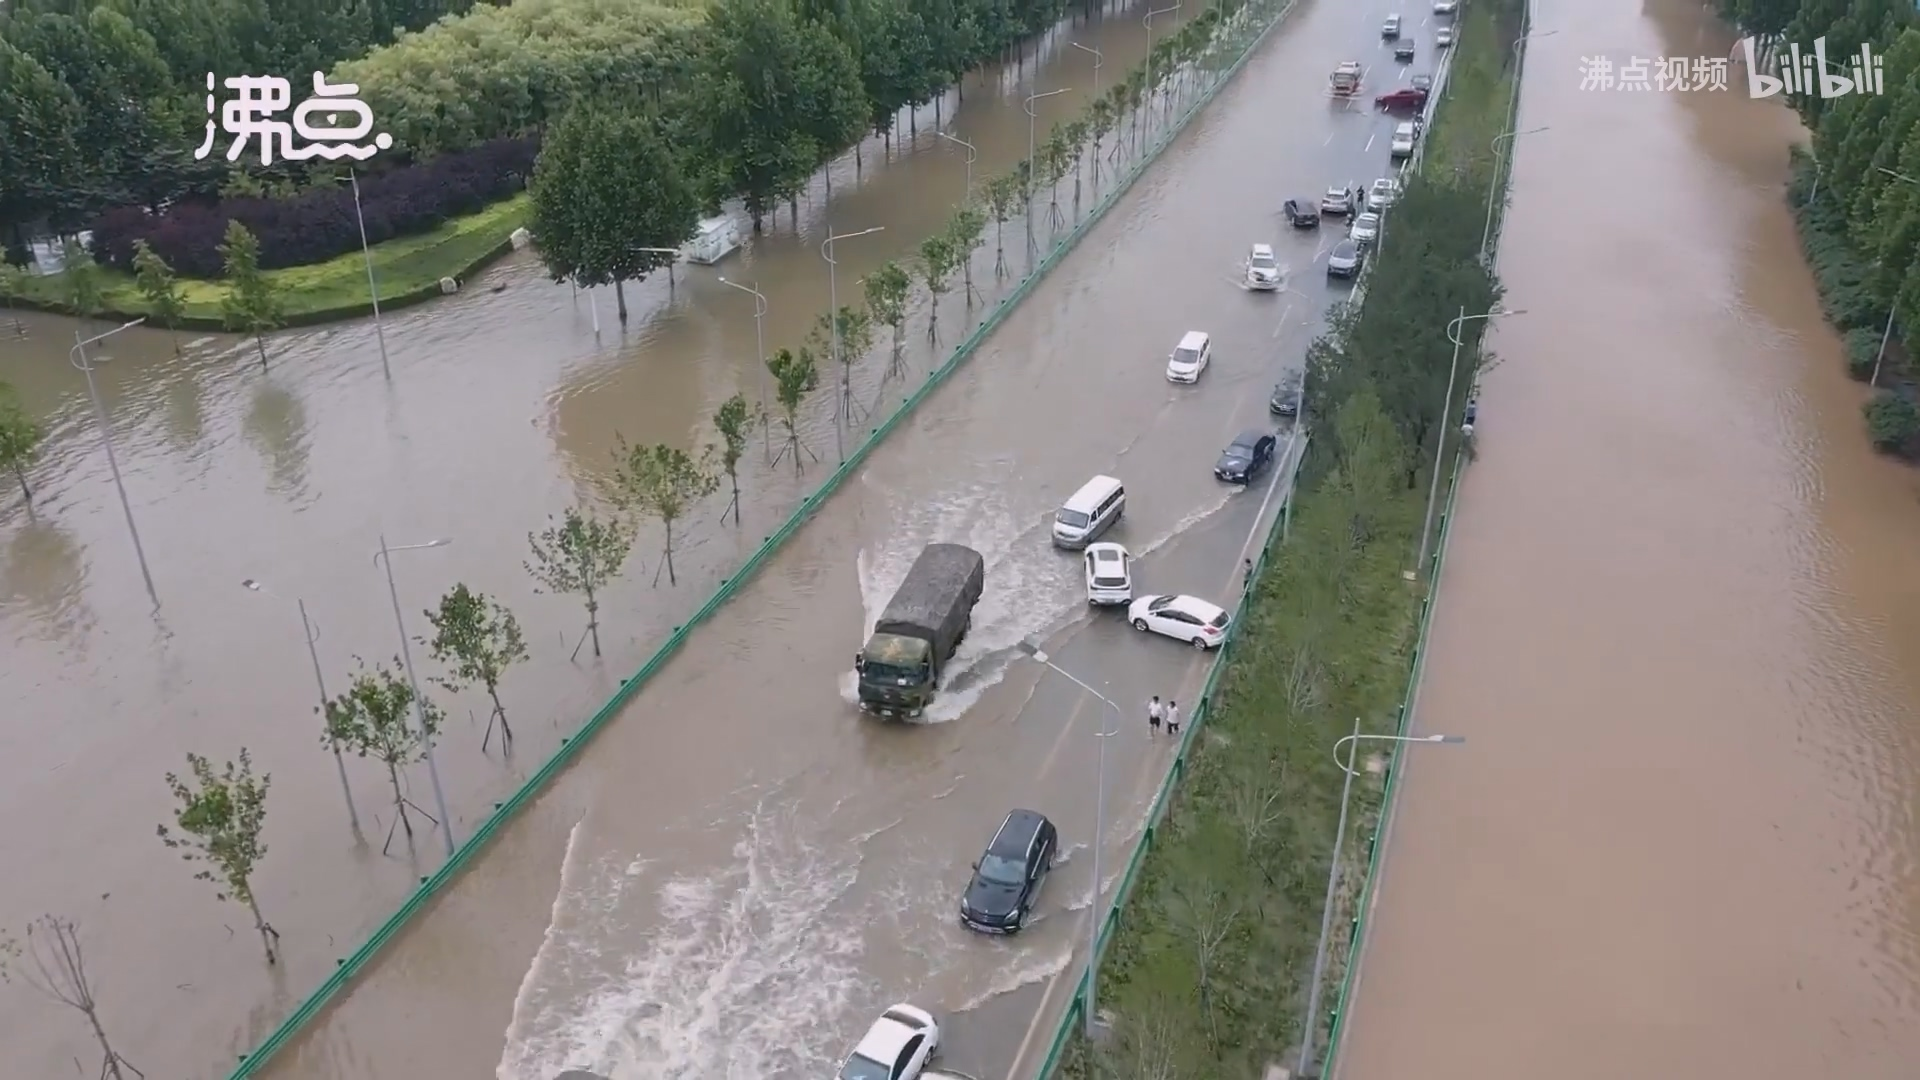puddle: (1, 265, 1131, 1080), (1439, 301, 1909, 1080)
